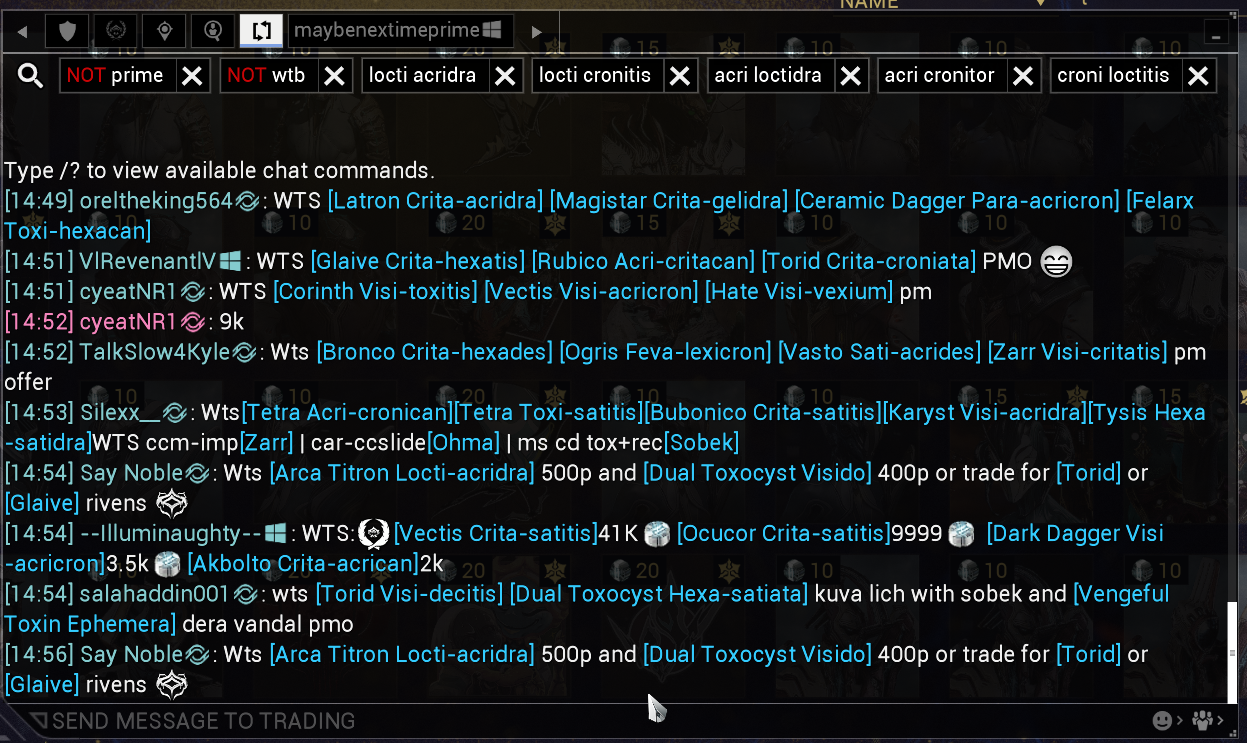link: (792, 185, 1120, 216), (509, 578, 811, 611), (266, 639, 537, 672), (266, 458, 535, 489), (184, 547, 419, 582), (638, 638, 876, 672), (646, 397, 881, 430), (674, 518, 893, 551), (312, 338, 555, 367), (270, 276, 481, 309), (324, 187, 545, 218), (530, 247, 757, 277), (482, 277, 698, 308), (775, 337, 981, 369), (641, 461, 876, 489), (759, 247, 978, 277), (307, 246, 525, 276), (547, 187, 789, 214), (983, 517, 1168, 552), (238, 397, 452, 427), (559, 337, 772, 367), (390, 518, 599, 548), (881, 398, 1088, 426), (311, 579, 504, 609), (453, 397, 643, 426), (986, 337, 1170, 366), (703, 279, 894, 305), (3, 217, 155, 244), (4, 551, 106, 582), (1086, 400, 1209, 425), (3, 430, 92, 460)
